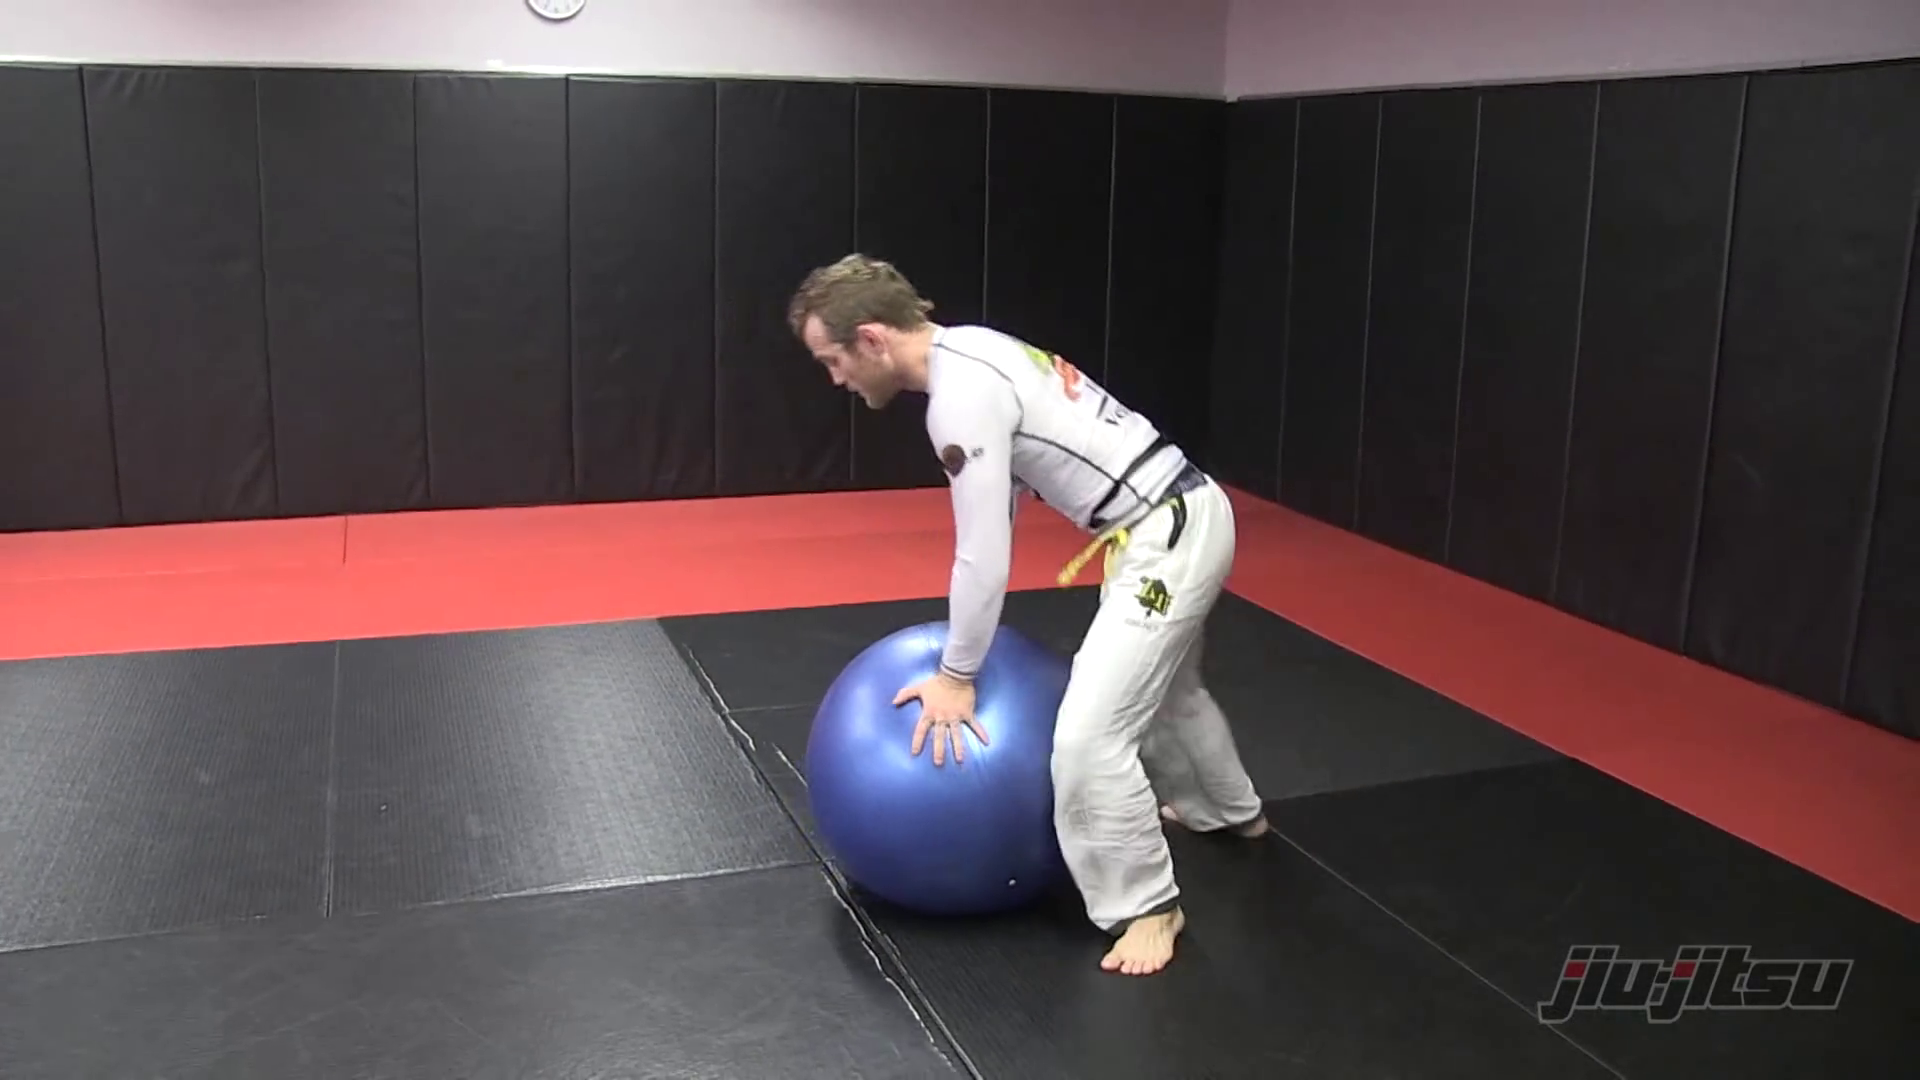yogaball: (795, 605, 1100, 938)
